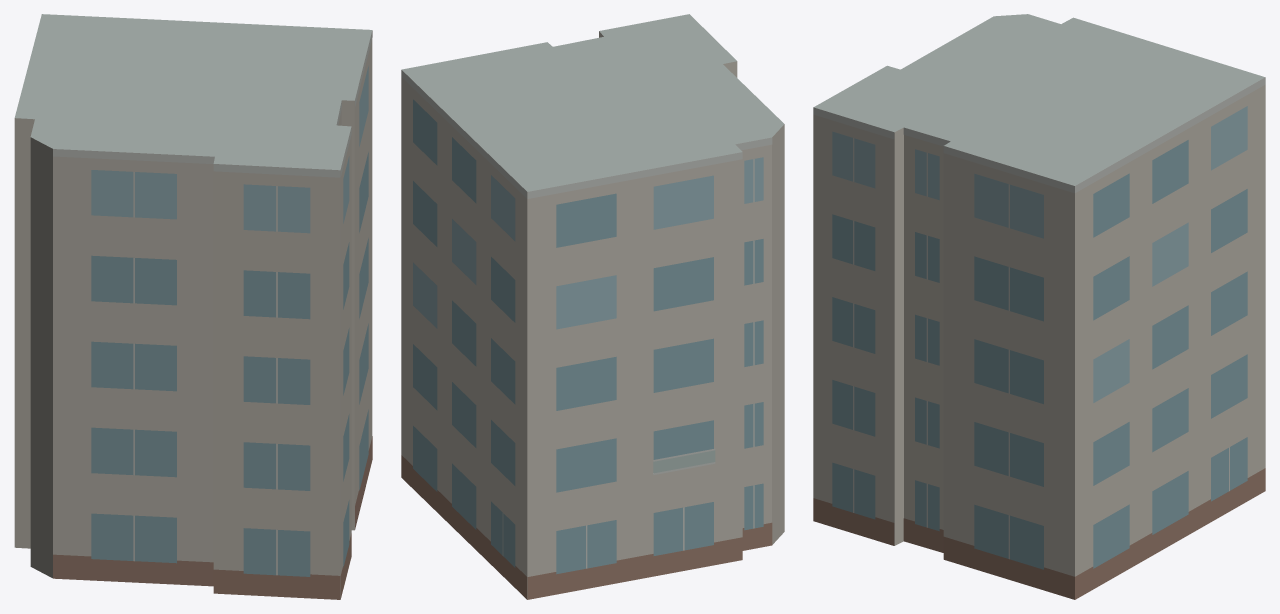
Rendered from survey-upis-32533924.glb.
3 views of the same model, side by side, from view 1: azimuth 30°, elevation 25°; view 2: azimuth 150°, elevation 25°; view 3: azimuth 270°, elevation 25° (orthographic). The views are drawn at different scales.
Parts seen in each view (by area): view 1: survey-upis-32533924.tmp; view 2: survey-upis-32533924.tmp; view 3: survey-upis-32533924.tmp.
Part boxes in pixels (x1=…): survey-upis-32533924.tmp: x1=14, y1=14, x2=372, y2=599; survey-upis-32533924.tmp: x1=401, y1=14, x2=784, y2=599; survey-upis-32533924.tmp: x1=813, y1=14, x2=1265, y2=599.
Bounding box in the file's own units: 12.41 × 13.9 × 13.77.
